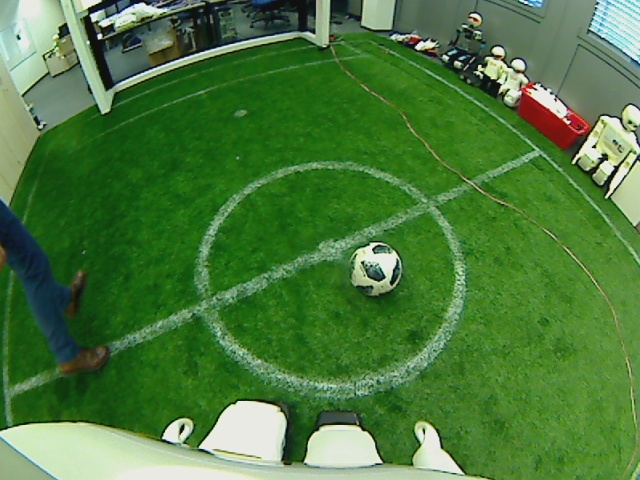ball: (349, 242, 404, 295)
